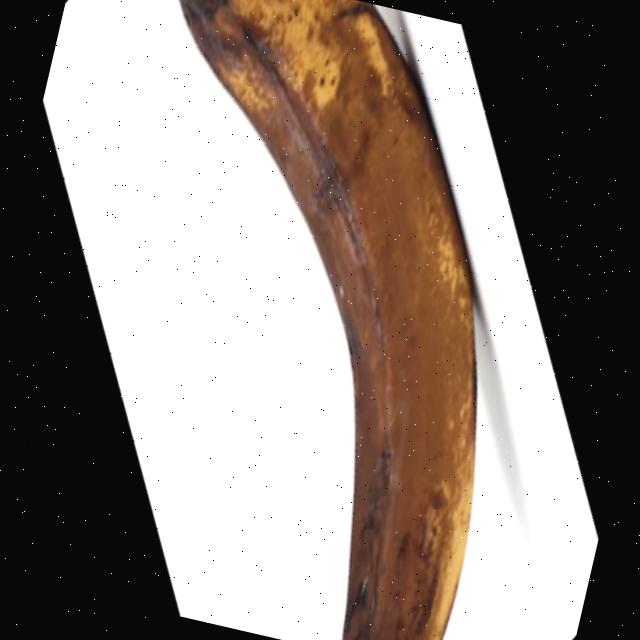Rotten: (31, 0, 580, 640)
